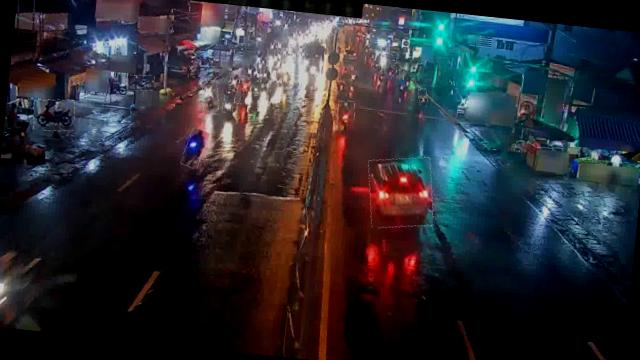Bike: (32, 97, 76, 133), (182, 128, 208, 170), (199, 80, 221, 116), (337, 100, 357, 132), (125, 73, 155, 92), (235, 76, 252, 106), (264, 80, 282, 103), (249, 81, 263, 105), (223, 89, 236, 113), (417, 88, 429, 107), (229, 72, 241, 89)
Car: (364, 154, 438, 231)
